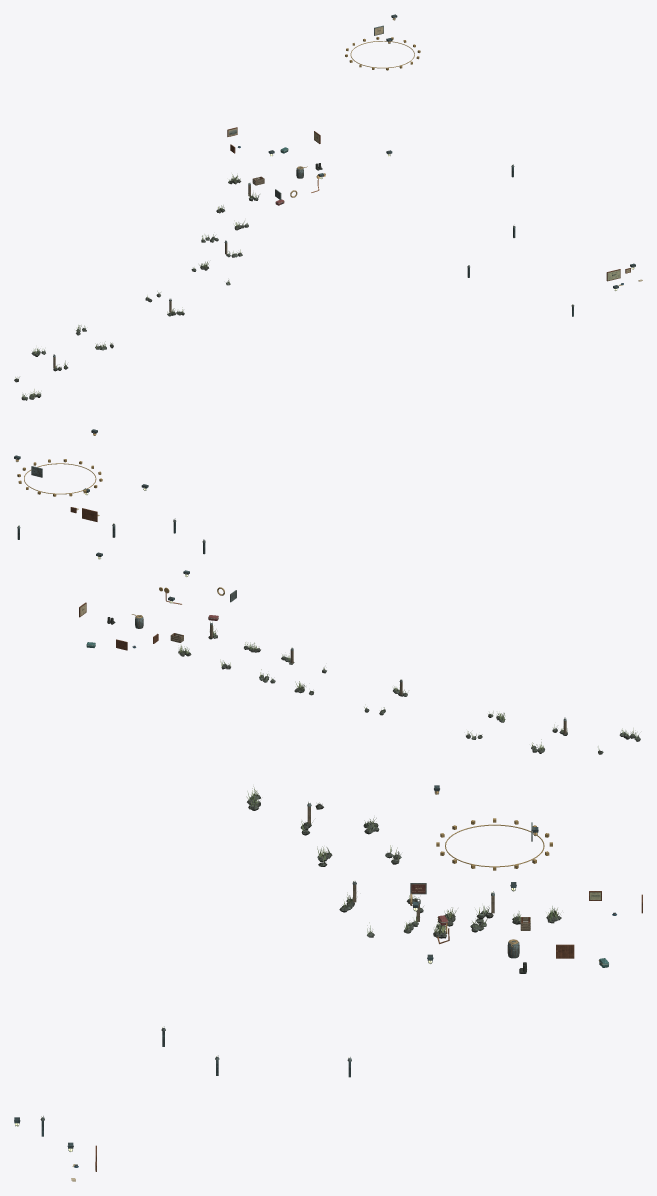
File: chapter2.glb
3 views of the same model, one above another, from view 1: azimuth 30°, elevation 25°; view 2: azimuth 150°, elevation 25°; view 3: azimuth 270°, elevation 25° (orthographic). The views are drawn at different scales.
Visible parts, largest first — view 1: Blackcliff, Pfad und Funkwarte, Wärterhaus, Maschinenraum und Suchlicht; view 2: Blackcliff, Pfad und Funkwarte, Wärterhaus, Maschinenraum und Suchlicht; view 3: Blackcliff, Pfad und Funkwarte, Wärterhaus, Maschinenraum und Suchlicht.
Boxes of the visible parts, x1=… form: Blackcliff, Pfad und Funkwarte: x1=14, y1=131, x2=618, y2=400; Wärterhaus, Maschinenraum und Suchlicht: x1=227, y1=14, x2=642, y2=285; Blackcliff, Pfad und Funkwarte: x1=17, y1=484, x2=640, y2=754; Wärterhaus, Maschinenraum und Suchlicht: x1=14, y1=429, x2=224, y2=650; Blackcliff, Pfad und Funkwarte: x1=14, y1=786, x2=574, y2=1136; Wärterhaus, Maschinenraum und Suchlicht: x1=67, y1=785, x2=642, y2=1181.
Bounding box in the file's own units: 42.59 × 15.55 × 26.66.
Materials: 26 (10 with a texture image).
